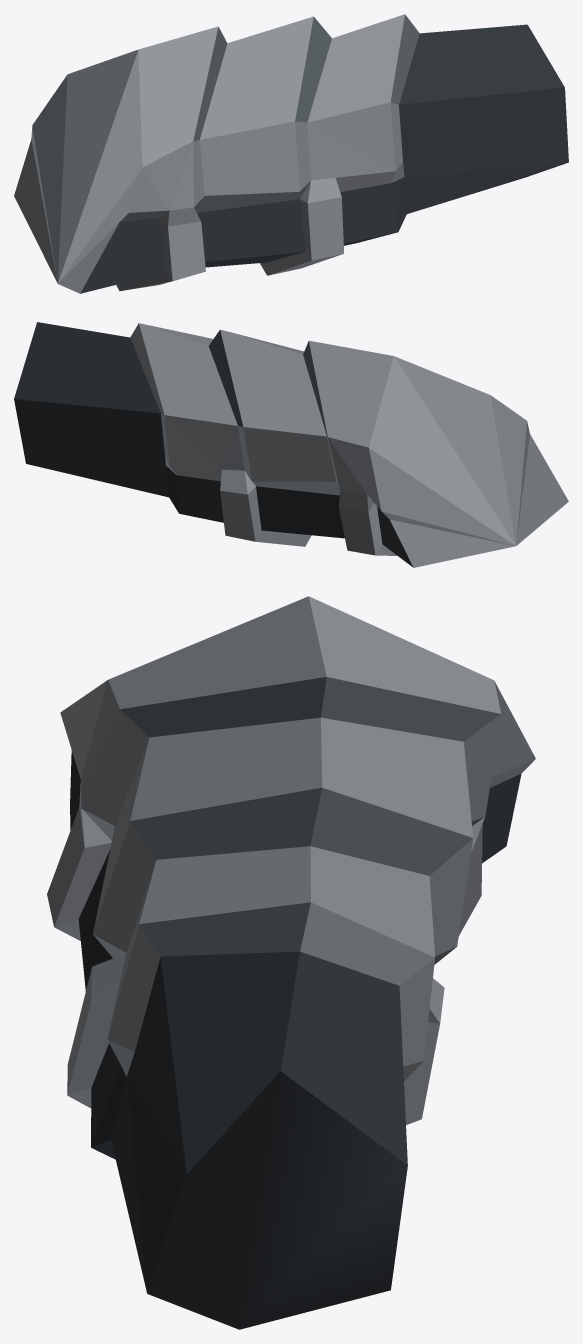
Rendered from Chr_ArmUpperLeft_Female_01_Static.fbx.
The picture shows the model from 3 angles, top to bottom: view 1: azimuth 30°, elevation 25°; view 2: azimuth 150°, elevation 25°; view 3: azimuth 270°, elevation 25°; orthographic projection. The views are drawn at different scales.
Visible parts, largest first — view 1: Chr_ArmUpperLeft_Female_01_Static; view 2: Chr_ArmUpperLeft_Female_01_Static; view 3: Chr_ArmUpperLeft_Female_01_Static.
Boxes of the visible parts, x1,y1,x2,y2 form: Chr_ArmUpperLeft_Female_01_Static: [14, 14, 568, 293]; Chr_ArmUpperLeft_Female_01_Static: [14, 322, 568, 567]; Chr_ArmUpperLeft_Female_01_Static: [47, 596, 535, 1329].
Bounding box in the file's own units: 0.3535 × 0.1577 × 0.1524.
